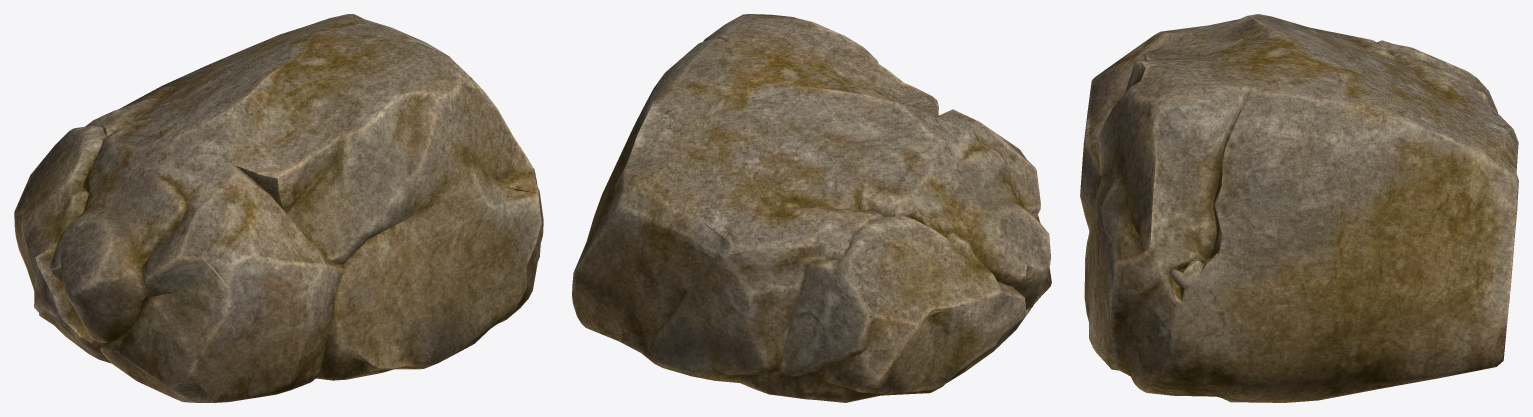
3 renders of one model, left to right at view 1: azimuth 30°, elevation 25°; view 2: azimuth 150°, elevation 25°; view 3: azimuth 270°, elevation 25°, orthographic. The views are drawn at different scales.
Parts seen in each view (by area): view 1: valley-boulder; view 2: valley-boulder; view 3: valley-boulder.
Part boxes in pixels (bbox=[...]): valley-boulder: bbox=[14, 14, 543, 402]; valley-boulder: bbox=[572, 14, 1051, 402]; valley-boulder: bbox=[1080, 14, 1518, 402].
Bounding box in the file's own units: 2.83 × 1.66 × 2.21.
Materials: 1 (1 with a texture image).
